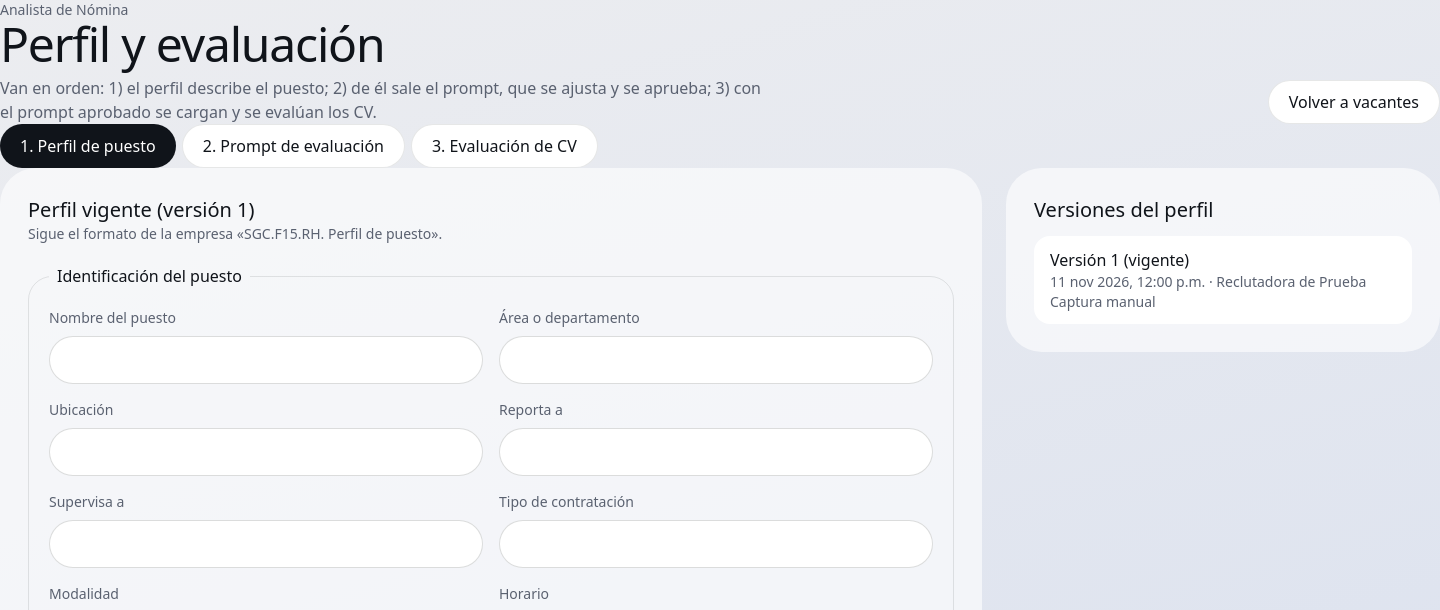
Test: EvaluationWorkspace › con acceso de lectura el perfil y el prompt no se pueden cambiar
This screenshot has width=1440, height=610.
Click the button "2. Prompt de evaluación" at [293, 146], box [182,124,405,168]
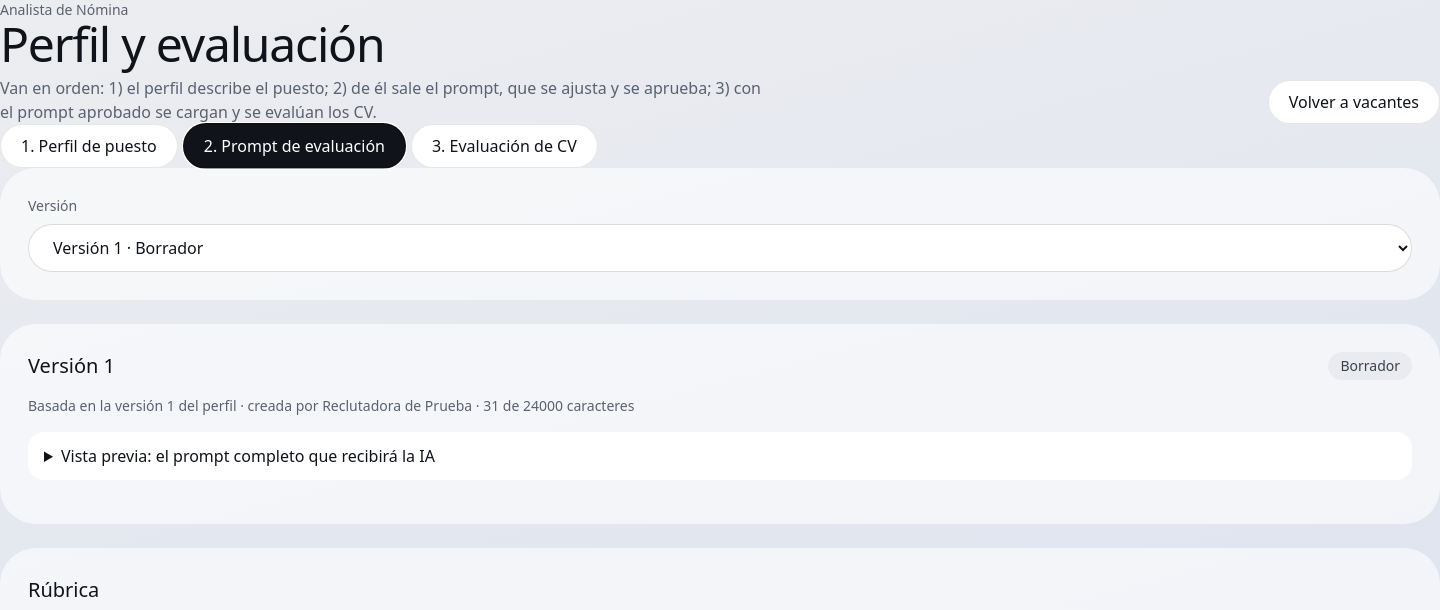
expect the heading "Versión 1" is shown: met, box [28,352,115,380]
# La vista previa del prompt completo se puede consultar también con lectura.
Click the heading "Vista previa: el prompt completo que recibirá la IA" at [248, 456], box [61,445,435,467]
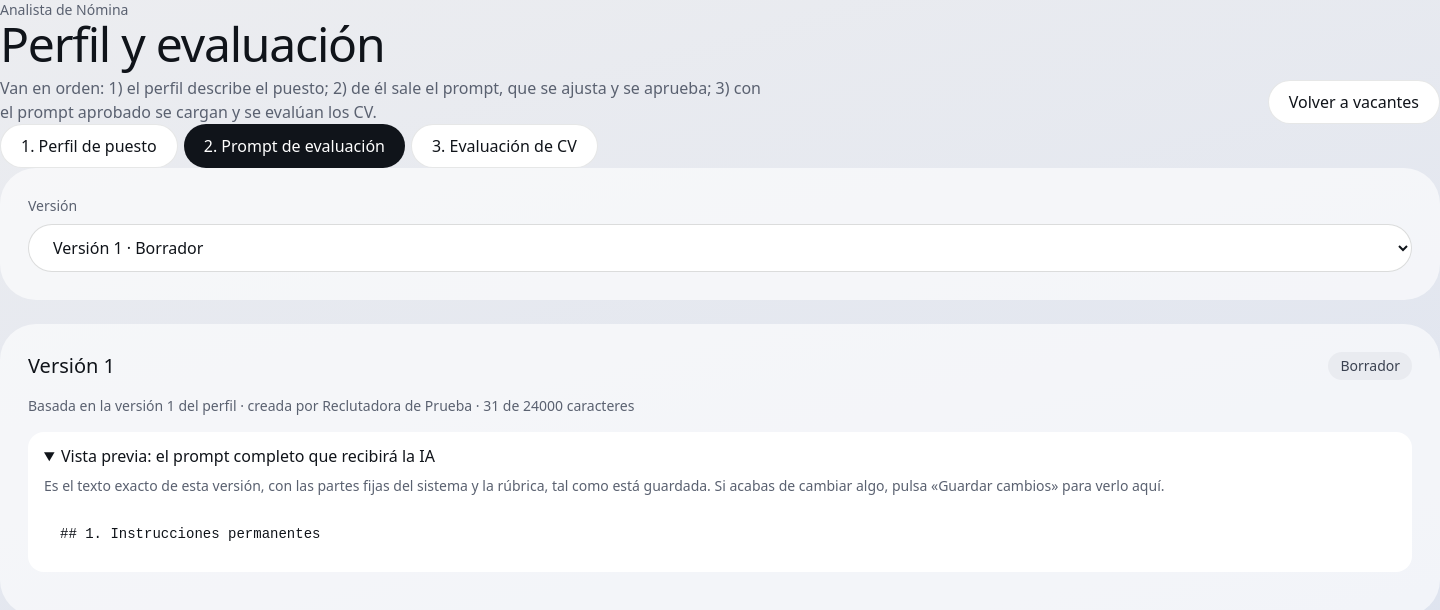
expect the text named "Prompt completo" reads "## 1. Instrucciones permanentes": met, box [60,526,320,542]
